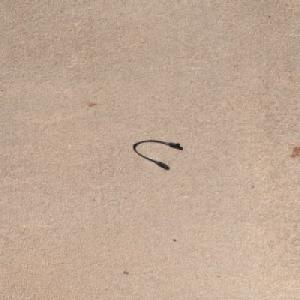Wire: (132, 139, 180, 168)
